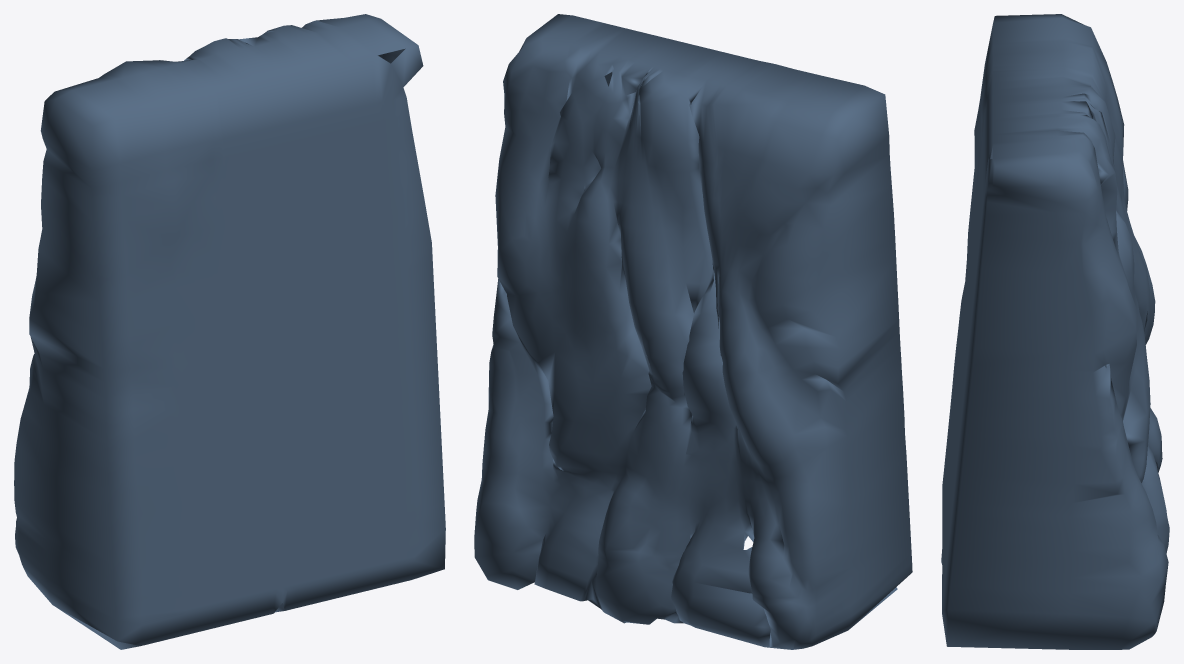
File: Wall.Basic.002.dae
The picture shows the model from 3 angles, left to right: view 1: azimuth 30°, elevation 25°; view 2: azimuth 150°, elevation 25°; view 3: azimuth 270°, elevation 25°; orthographic projection. The views are drawn at different scales.
Visible parts, largest first — view 1: Plane.001; view 2: Plane.001; view 3: Plane.001.
Boxes of the visible parts, box(x1,y1,x2,y2) form: Plane.001: box(14, 14, 445, 649); Plane.001: box(474, 14, 912, 649); Plane.001: box(941, 14, 1169, 649).
Bounding box in the file's own units: 12.87 × 7.83 × 18.66.
